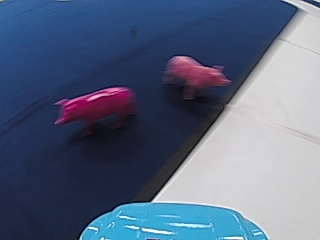pig: (50, 80, 140, 134), (163, 53, 232, 99)
